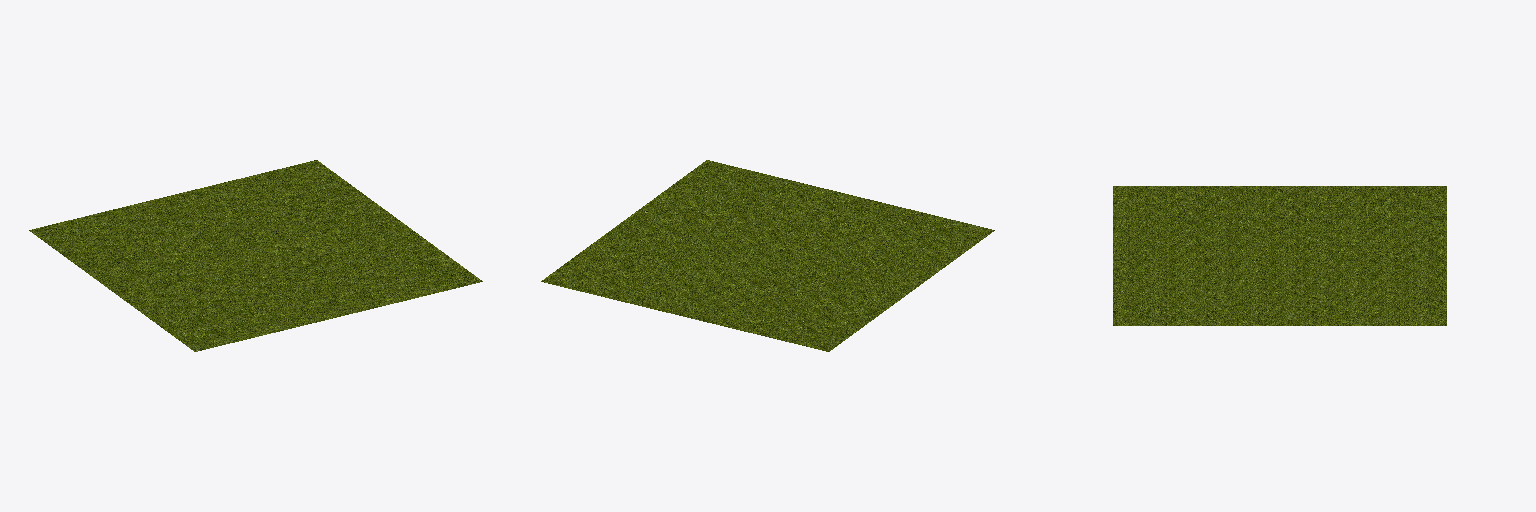
The picture shows the model from 3 angles: view 1: azimuth 30°, elevation 25°; view 2: azimuth 150°, elevation 25°; view 3: azimuth 270°, elevation 25°; orthographic projection.
Parts seen in each view (by area): view 1: herbe; view 2: herbe; view 3: herbe.
Boxes of the visible parts, x1=… form: herbe: x1=29, y1=160, x2=482, y2=351; herbe: x1=541, y1=160, x2=994, y2=351; herbe: x1=1113, y1=186, x2=1446, y2=325.
Size of the model in its own units: 30 by 0 by 30.
1 materials, 1 textured.